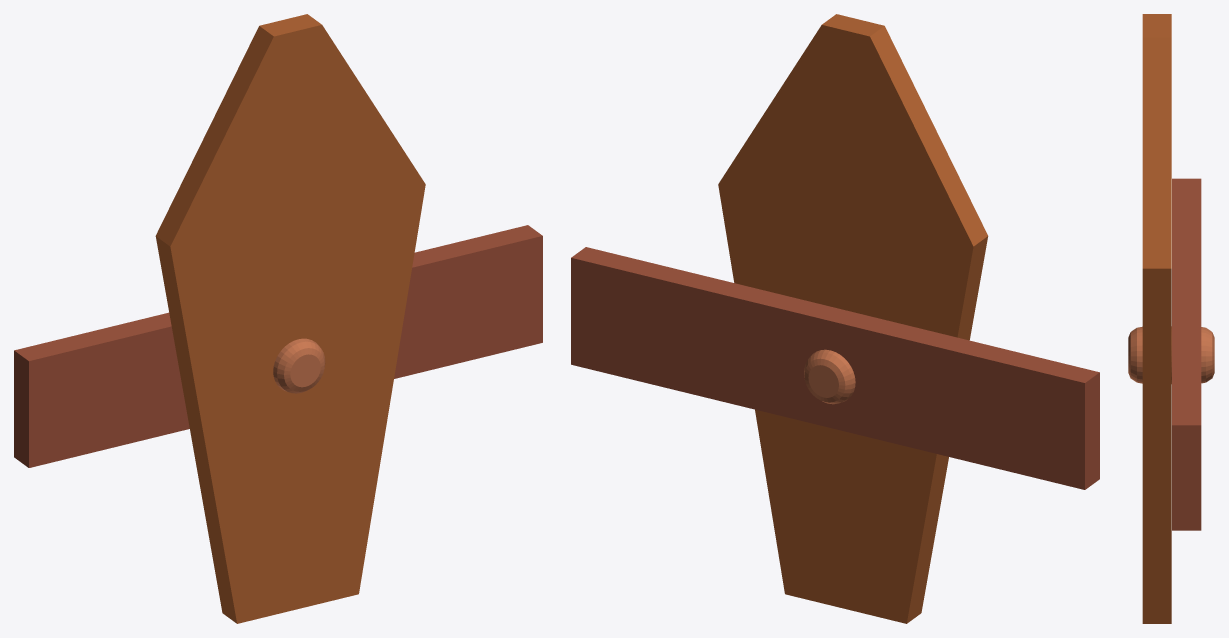
Rendered from fenceFall.glb.
3 renders of one model, left to right at view 1: azimuth 30°, elevation 25°; view 2: azimuth 150°, elevation 25°; view 3: azimuth 270°, elevation 25°, orthographic.
Parts seen in each view (by area): view 1: fenceBar.010, Cylinder.002; view 2: fenceBar.010, Cylinder.002; view 3: fenceBar.010, Cylinder.002.
Boxes of the visible parts, box(x1,y1,x2,y2) form: fenceBar.010: box(14, 14, 542, 623); Cylinder.002: box(273, 338, 325, 393); fenceBar.010: box(571, 14, 1099, 623); Cylinder.002: box(804, 349, 855, 404); fenceBar.010: box(1142, 14, 1201, 623); Cylinder.002: box(1128, 326, 1214, 383).
Bounding box in the file's own units: 1.01 × 1.08 × 0.149.
